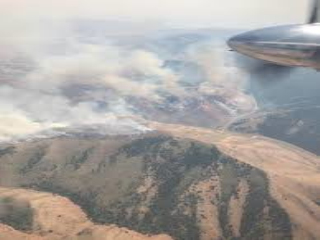smoke: (7, 14, 231, 122), (1, 80, 153, 145)
